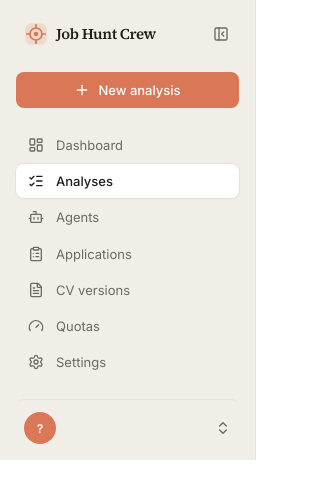
it: AppSidebar › exposes the theme and language controls inside the account menu
The width and height of the screenshot is (320, 477).
Step 1. Click the button named "Account menu" → (128, 422), box [16,399,239,444]
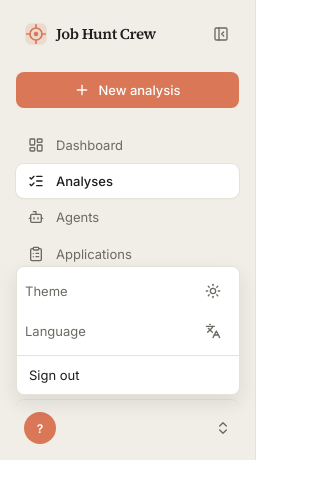
Now the menu item "Sign out" is shown, box [29,367,80,383]
Now the button named "Change theme" is shown, box [195,273,231,309]
Now the button named "Language" is shown, box [195,313,231,349]
